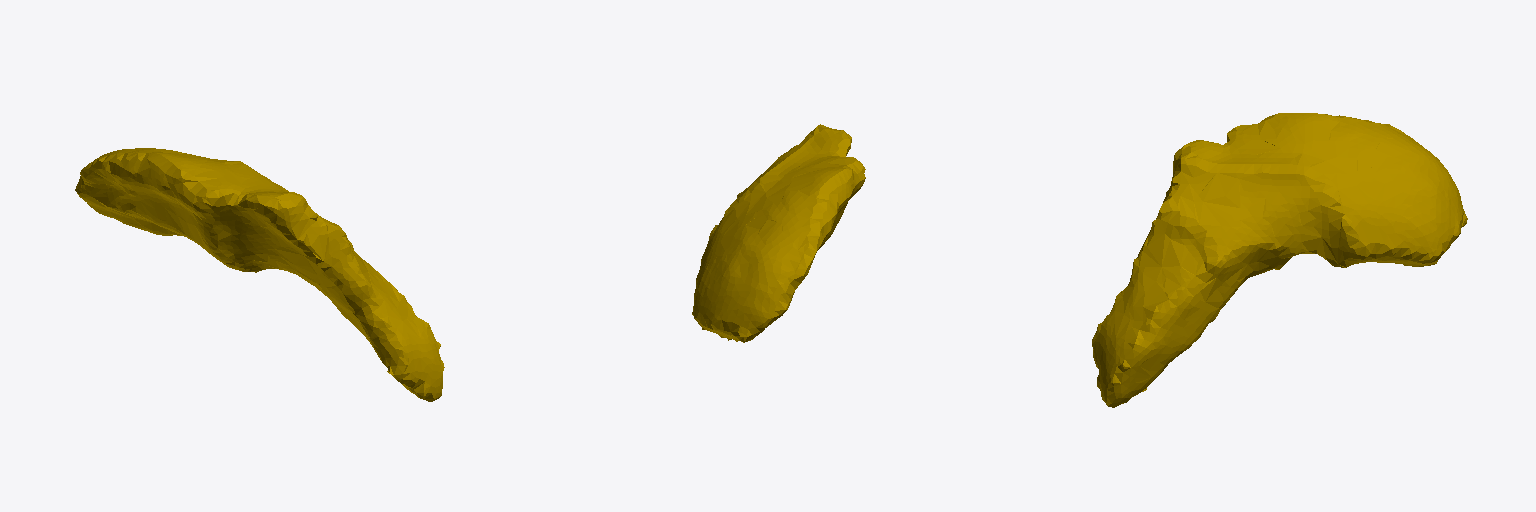
File: Model_104_RH__Parainsular_cortex__medial_part_(PaIM).obj
The picture shows the model from 3 angles: view 1: azimuth 30°, elevation 25°; view 2: azimuth 150°, elevation 25°; view 3: azimuth 270°, elevation 25°; orthographic projection.
Size of the model in its own units: 2.73 by 2.6 by 4.18.